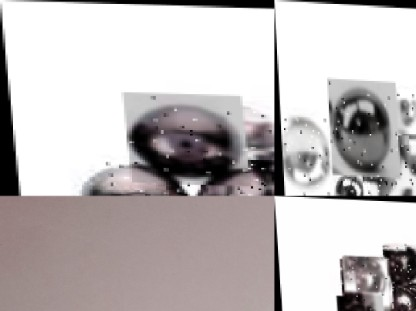ironball: (120, 91, 246, 185), (326, 77, 398, 177), (75, 156, 190, 196), (279, 115, 328, 196), (204, 157, 274, 196), (365, 142, 415, 196), (341, 257, 391, 311), (224, 107, 274, 159), (382, 242, 415, 284), (386, 86, 415, 133), (331, 164, 371, 196), (380, 279, 415, 311), (334, 295, 382, 311)
